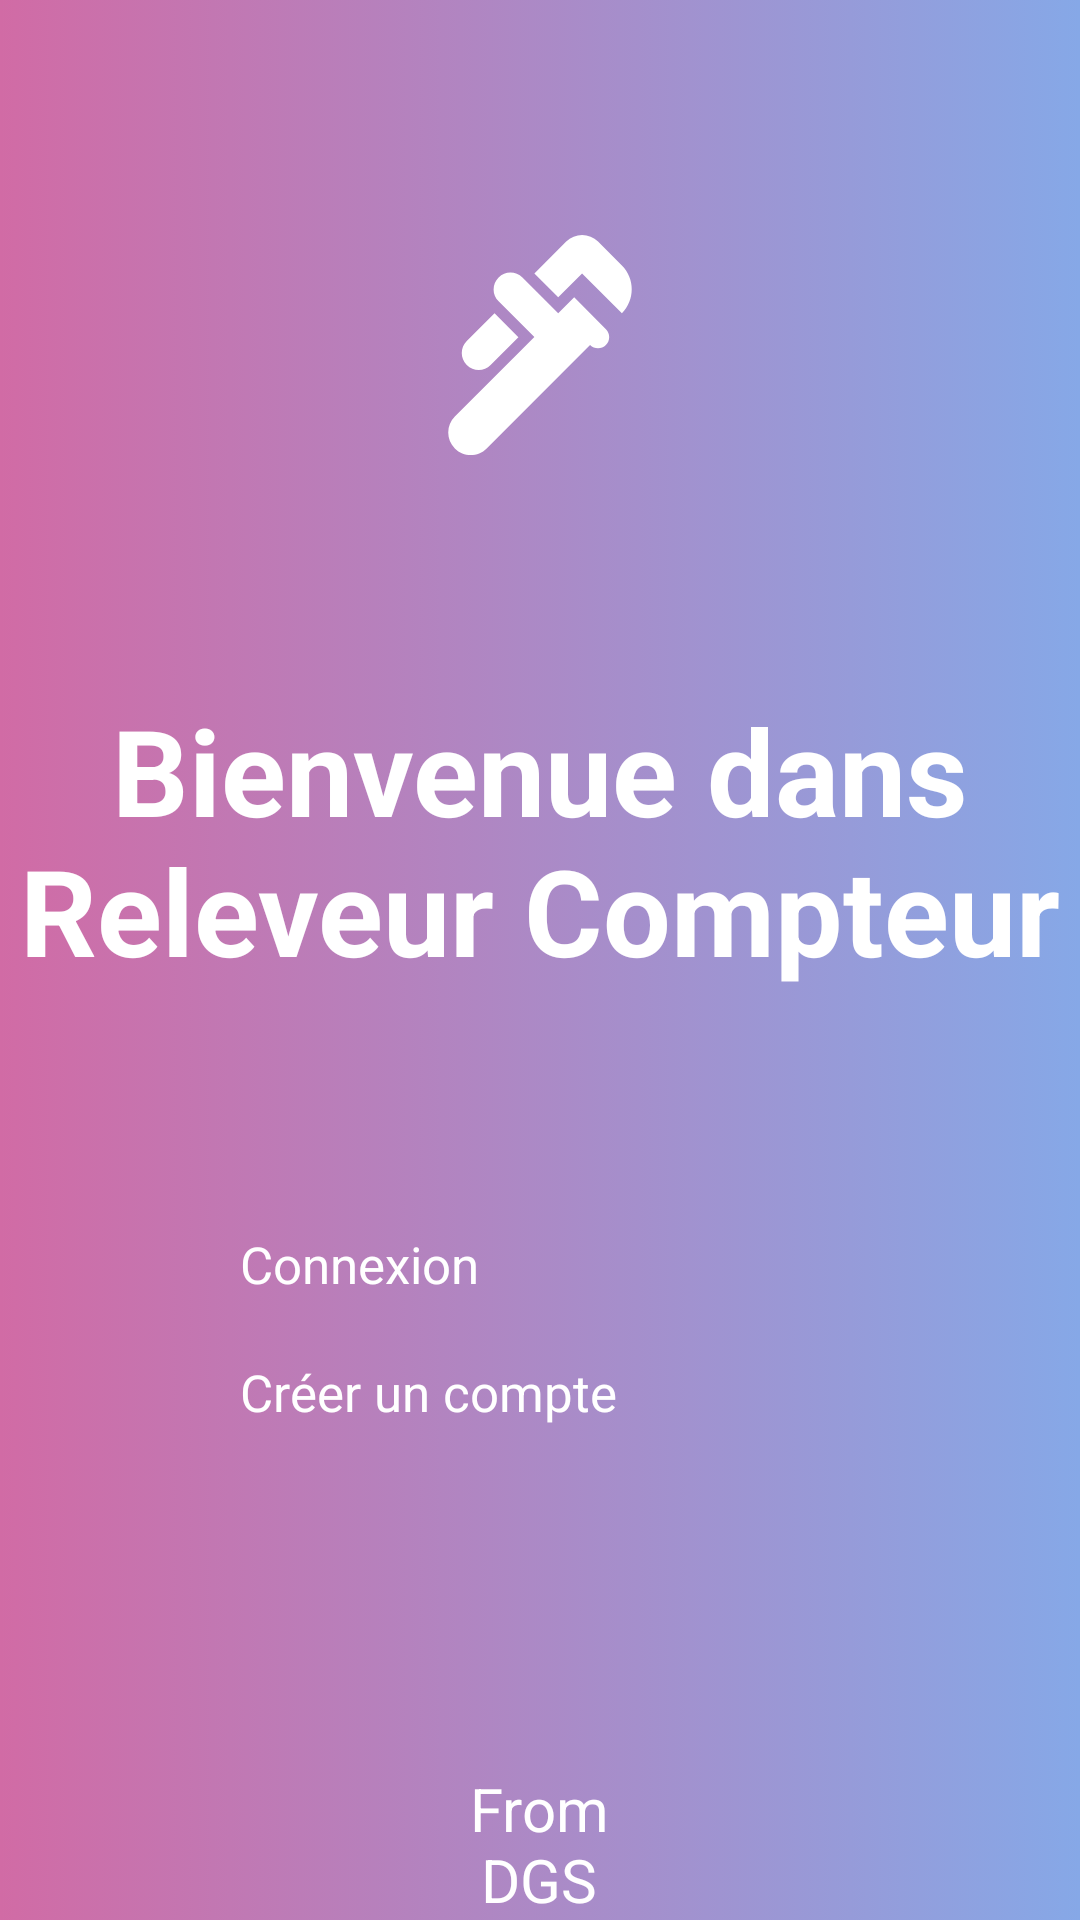

Named icons in this screenshot (1080 × 1920) and their centers, (x,y):
plumbing: (518,345)
